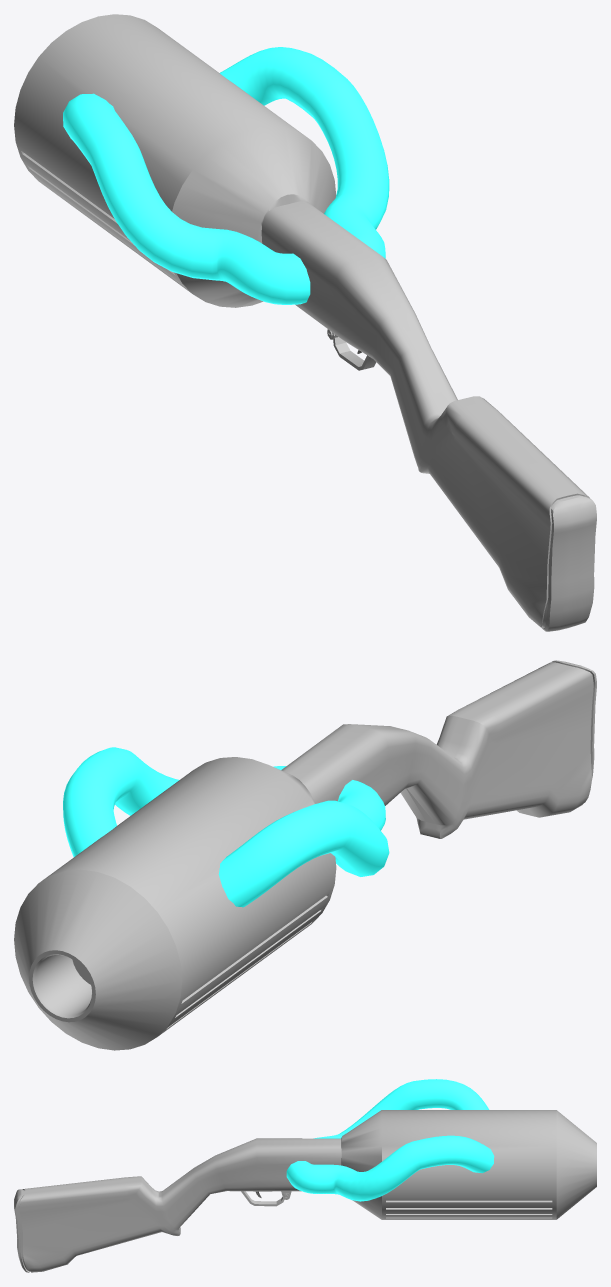
Rendered from GravityGun2.fbx.
3 renders of one model, top to bottom at view 1: azimuth 30°, elevation 25°; view 2: azimuth 150°, elevation 25°; view 3: azimuth 270°, elevation 25°, orthographic. The views are drawn at different scales.
Visible parts, largest first — view 1: Main Gun.001, BezierCurve; view 2: Main Gun.001, BezierCurve; view 3: Main Gun.001, BezierCurve, Trigger Guard.
Part boxes in pixels (<box>): Main Gun.001: <box>14,14,596,631</box>; BezierCurve: <box>63,47,389,304</box>; Main Gun.001: <box>14,660,596,1050</box>; BezierCurve: <box>63,747,389,907</box>; Main Gun.001: <box>14,1110,596,1272</box>; BezierCurve: <box>286,1079,494,1201</box>; Trigger Guard: <box>241,1191,291,1206</box>.
Size of the model in its own units: 167 by 168 by 554.
